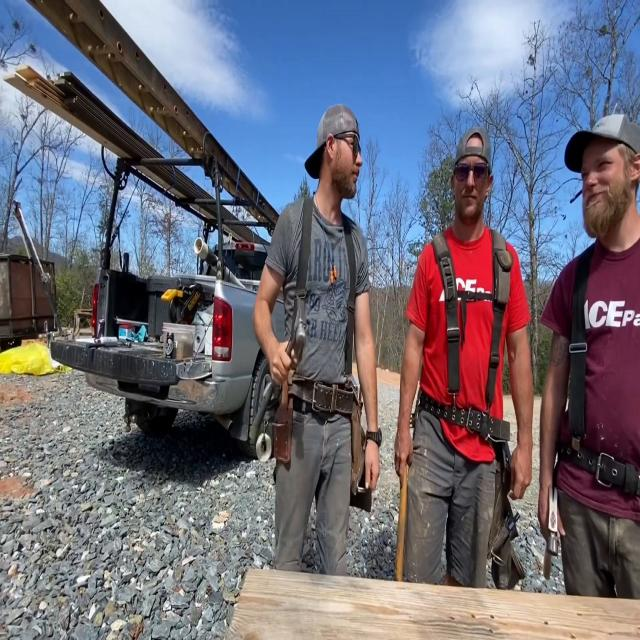hammer: (249, 293, 306, 440)
